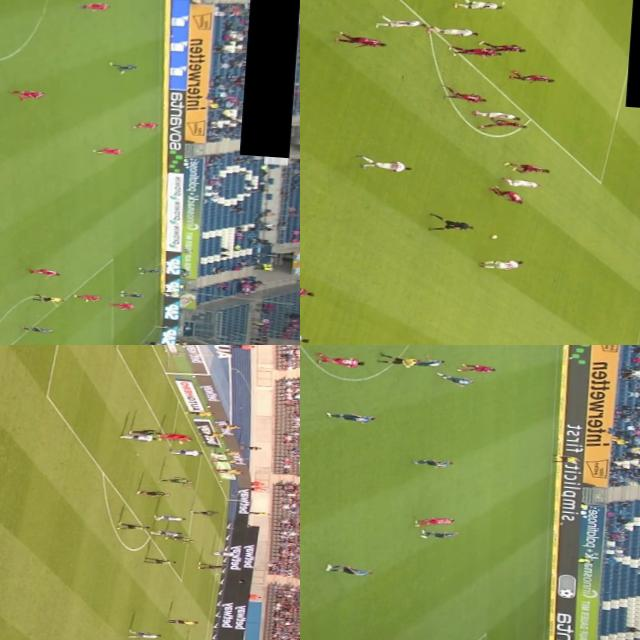player: (352, 152, 412, 172), (336, 30, 388, 50), (508, 68, 560, 88), (504, 158, 556, 178), (442, 84, 491, 105), (478, 37, 532, 55), (322, 560, 376, 578), (474, 115, 531, 132), (448, 41, 501, 59), (431, 22, 482, 40), (374, 15, 431, 31), (322, 408, 379, 424), (487, 182, 530, 203), (316, 353, 368, 369), (476, 256, 526, 270), (504, 174, 546, 190), (436, 371, 478, 387), (450, 0, 509, 11), (413, 516, 457, 528), (414, 456, 458, 468), (105, 60, 142, 74), (476, 109, 522, 120), (419, 528, 464, 539), (404, 356, 448, 367), (458, 362, 497, 374), (10, 88, 48, 100), (27, 264, 62, 276), (160, 430, 193, 442), (165, 530, 194, 542), (23, 324, 55, 334), (79, 0, 113, 9), (169, 448, 203, 457), (138, 487, 168, 497), (188, 506, 218, 516), (152, 528, 180, 538), (142, 556, 176, 564), (118, 522, 152, 530), (94, 145, 124, 154), (165, 474, 192, 484), (300, 283, 319, 297), (110, 300, 136, 310), (129, 628, 161, 636), (74, 292, 98, 302), (122, 290, 146, 300), (130, 120, 160, 128), (132, 426, 162, 434), (121, 432, 155, 439), (134, 265, 162, 273), (197, 560, 225, 568), (158, 514, 184, 520), (211, 549, 235, 555)
